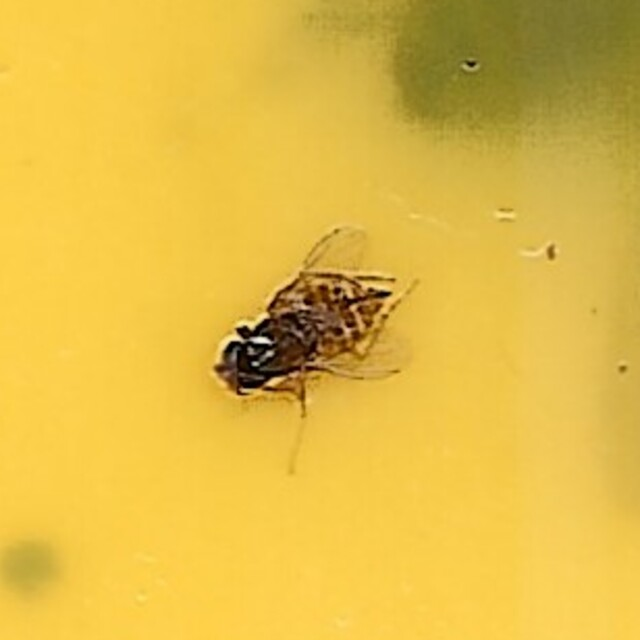Brachycera: (208, 225, 432, 415)
